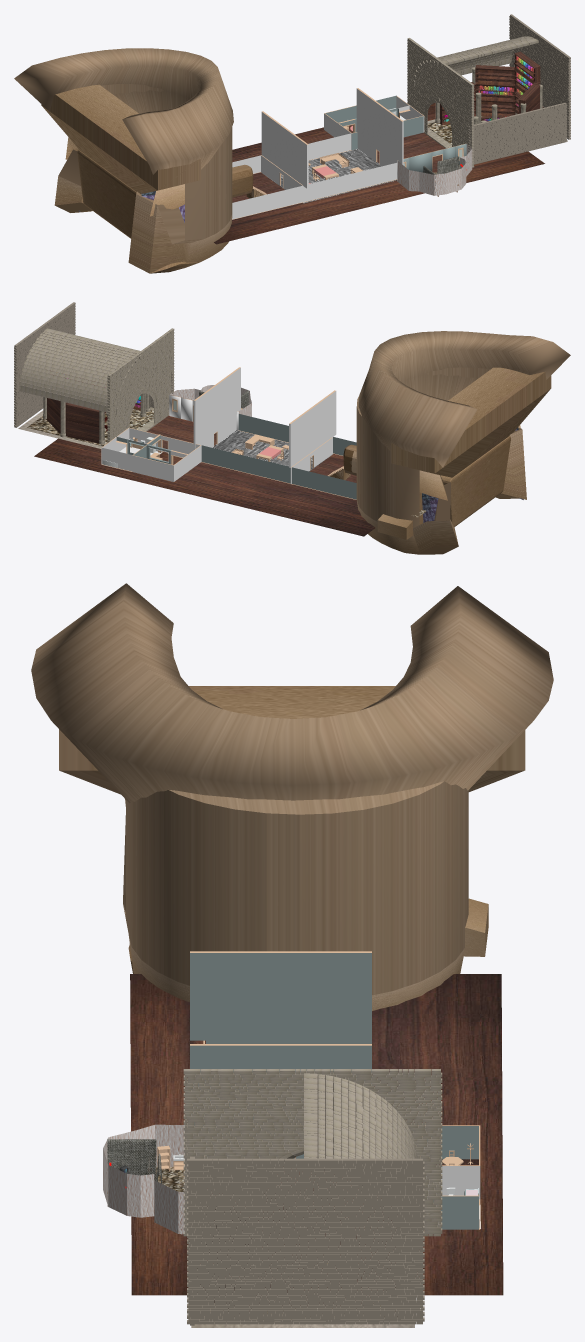
Rendered from HouseUnfin.glb.
The picture shows the model from 3 angles, top to bottom: view 1: azimuth 30°, elevation 25°; view 2: azimuth 150°, elevation 25°; view 3: azimuth 270°, elevation 25°; orthographic projection. The views are drawn at different scales.
Visible parts, largest first — view 1: Wall.003, Cylinder.001, tableCloth(Clone), Cylinder.003, Cube.013, Plane.024, wall, Plane.002, Cube.015; view 2: Wall.003, Cylinder.001, tableCloth(Clone), Plane.024, Cube.013, Cylinder.003, Plane.002, wall, Cube.001, Cylinder.002, Cube.015; view 3: Wall.003, Cylinder.001, Cylinder.003, Plane.024, tableCloth(Clone), Cube.013, wall, Plane.002, Cube.001.
Boxes of the visible parts, box(x1,y1,x2,y2) form: Wall.003: box(407, 14, 570, 167); Cylinder.001: box(14, 48, 233, 216); tableCloth(Clone): box(232, 88, 403, 219); Cylinder.003: box(54, 84, 232, 273); Cube.013: box(41, 84, 200, 238); Plane.024: box(214, 103, 544, 244); wall: box(397, 143, 472, 196); Plane.002: box(324, 95, 424, 149); Cube.015: box(232, 164, 253, 197); Wall.003: box(14, 302, 174, 448); Cylinder.001: box(358, 331, 570, 500); tableCloth(Clone): box(193, 367, 356, 499); Plane.024: box(34, 415, 375, 536); Cube.013: box(391, 367, 551, 526); Cylinder.003: box(356, 367, 526, 554); Plane.002: box(101, 427, 201, 481); wall: box(169, 385, 251, 430); Cube.001: box(377, 514, 413, 539); Cylinder.002: box(422, 427, 523, 522); Cube.015: box(343, 444, 356, 475); Wall.003: box(183, 1069, 442, 1327); Cylinder.001: box(31, 583, 553, 806); Cylinder.003: box(123, 781, 468, 1010); Plane.024: box(130, 974, 503, 1295); tableCloth(Clone): box(190, 951, 371, 1158); Cube.013: box(59, 686, 525, 794); wall: box(103, 1124, 204, 1234); Plane.002: box(148, 1125, 480, 1229); Cube.001: box(463, 898, 488, 956).
Bounding box in the file's own units: 4438 × 1503 × 2130.
115 materials, 18 textured.
